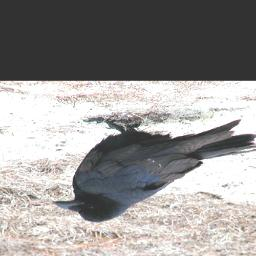Crow: (53, 116, 256, 224)
